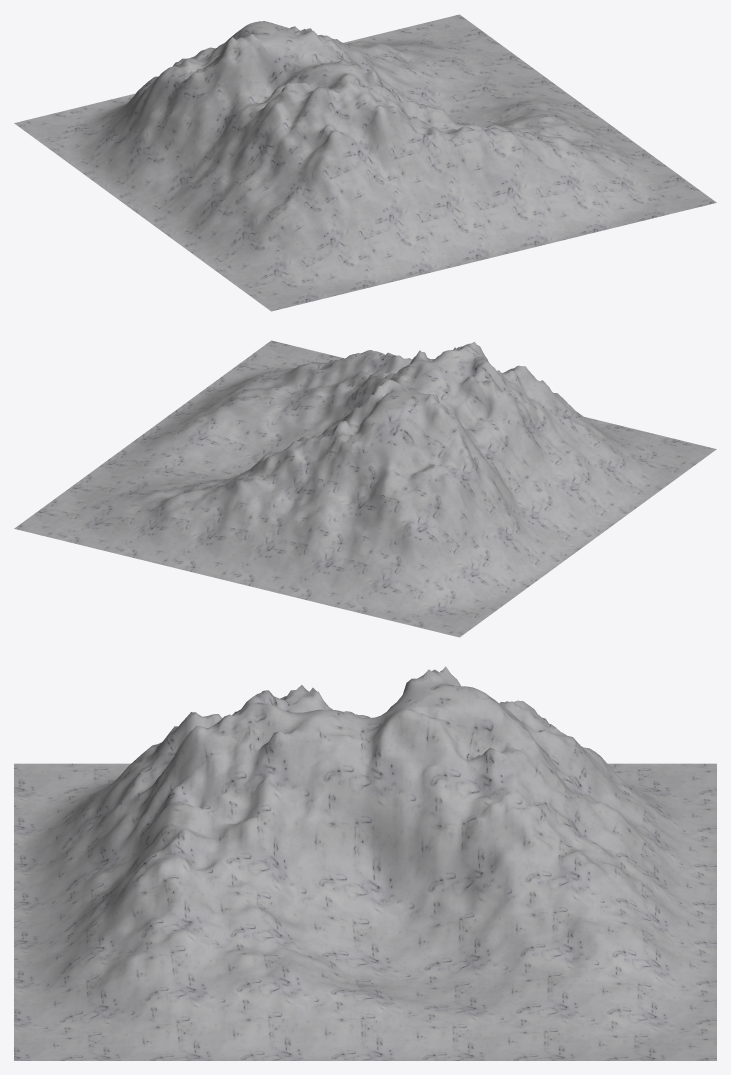
The model's file is map.glb.
3 views of the same model, one above another, from view 1: azimuth 30°, elevation 25°; view 2: azimuth 150°, elevation 25°; view 3: azimuth 270°, elevation 25° (orthographic). The views are drawn at different scales.
Visible parts, largest first — view 1: Landscape; view 2: Landscape; view 3: Landscape.
Boxes of the visible parts, x1,y1,x2,y2 form: Landscape: [14, 14, 716, 311]; Landscape: [14, 340, 716, 637]; Landscape: [14, 666, 716, 1060].
Bounding box in the file's own units: 18.77 × 5.4 × 18.77.
1 material, 1 textured.
